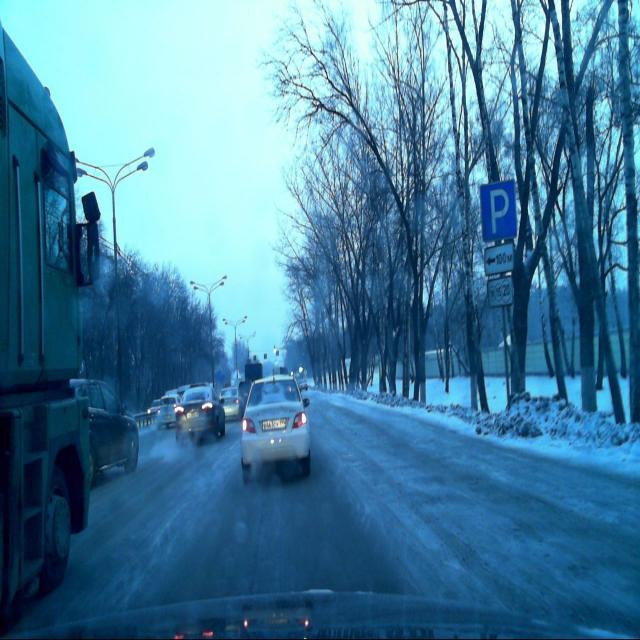road sign: (480, 179, 517, 241), (483, 244, 514, 276), (486, 278, 514, 305)
